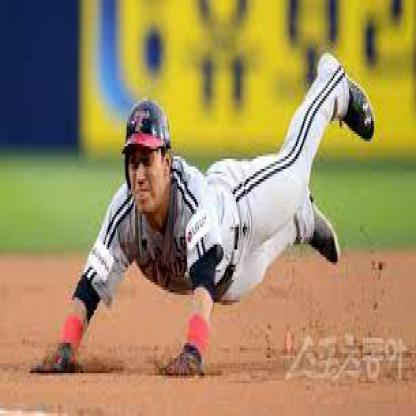Fall_Down: (35, 41, 378, 384)
